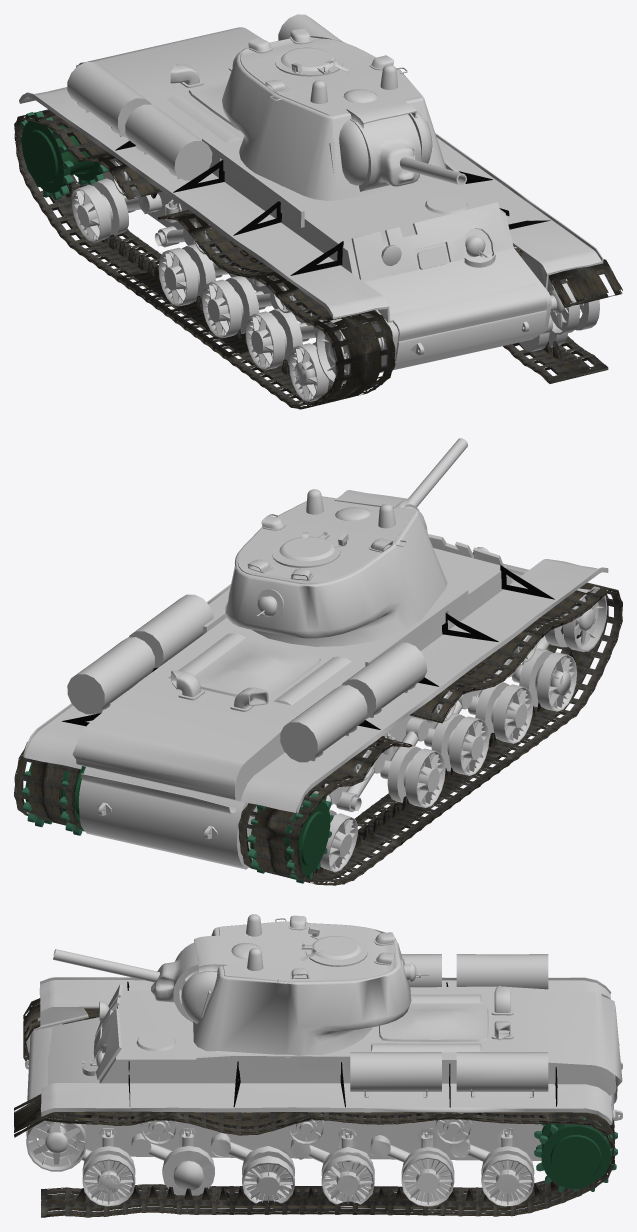
Rendered from KV-1_EndGame.fbx.
The picture shows the model from 3 angles, top to bottom: view 1: azimuth 30°, elevation 25°; view 2: azimuth 150°, elevation 25°; view 3: azimuth 270°, elevation 25°; orthographic projection. The views are drawn at different scales.
Parts seen in each view (by area): view 1: Osnovanie_low.004, KV_1_BashNya_low.002, track_unText.002, Bokovie_krilia_low.002, Koleso9_KV1_low.004, bochka_low.002, track_unText.001, Koleso_zadnee_zveda_low.002, KV_1_front_low.002, ugolnik_low.002, KV_1_BashNya_low_dop2.002, koleso_top_low.001 (+6 smaller); view 2: Osnovanie_low.004, KV_1_BashNya_low.002, track_unText.002, Bokovie_krilia_low.002, Koleso9_KV1_low.004, bochka_low.002, track_unText.001, Koleso_zadnee_zveda_low.002, koleso_top_low.002, KV_1_BashNya_low_dop2.002, ugolnik_low.002, vozduhska_low.002 (+3 smaller); view 3: Osnovanie_low.004, KV_1_BashNya_low.002, track_unText.001, Koleso9_KV1_low.004, Bokovie_krilia_low.002, bochka_low.002, Koleso_zadnee_zveda_low.001, koleso_top_low.001, kolesoC_low.002, KV_1_BashNya_low_dop2.002, KV_1_front_low.002, KV_1_stvol_low.002 (+5 smaller).
Part boxes in pixels (left/top/right/bottom): Osnovanie_low.004: left=76, top=27, right=551, bottom=372; KV_1_BashNya_low.002: left=222, top=36, right=446, bottom=200; track_unText.002: left=14, top=109, right=395, bottom=409; Bokovie_krilia_low.002: left=19, top=87, right=603, bottom=322; Koleso9_KV1_low.004: left=71, top=178, right=567, bottom=401; bochka_low.002: left=67, top=14, right=343, bottom=180; track_unText.001: left=503, top=245, right=622, bottom=383; Koleso_zadnee_zveda_low.002: left=20, top=111, right=108, bottom=200; KV_1_front_low.002: left=355, top=114, right=421, bottom=191; ugolnik_low.002: left=115, top=140, right=550, bottom=275; KV_1_BashNya_low_dop2.002: left=248, top=29, right=432, bottom=173; koleso_top_low.001: left=547, top=278, right=599, bottom=334; Osnovanie_low.004: left=72, top=534, right=538, bottom=869; KV_1_BashNya_low.002: left=225, top=490, right=447, bottom=646; track_unText.002: left=238, top=582, right=622, bottom=885; Bokovie_krilia_low.002: left=23, top=559, right=608, bottom=813; Koleso9_KV1_low.004: left=301, top=625, right=577, bottom=872; bochka_low.002: left=67, top=594, right=427, bottom=762; track_unText.001: left=14, top=742, right=83, bottom=829; Koleso_zadnee_zveda_low.002: left=247, top=793, right=333, bottom=883; koleso_top_low.002: left=543, top=586, right=607, bottom=651; KV_1_BashNya_low_dop2.002: left=247, top=489, right=427, bottom=580; ugolnik_low.002: left=62, top=565, right=554, bottom=729; vozduhska_low.002: left=171, top=670, right=268, bottom=711; Osnovanie_low.004: left=27, top=984, right=622, bottom=1160; KV_1_BashNya_low.002: left=181, top=921, right=411, bottom=1057; track_unText.001: left=14, top=1094, right=614, bottom=1217; Koleso9_KV1_low.004: left=63, top=1128, right=534, bottom=1207; Bokovie_krilia_low.002: left=39, top=977, right=612, bottom=1125; bochka_low.002: left=350, top=954, right=548, bottom=1097; Koleso_zadnee_zveda_low.001: left=534, top=1117, right=617, bottom=1192; koleso_top_low.001: left=26, top=1114, right=86, bottom=1171; kolesoC_low.002: left=140, top=1113, right=472, bottom=1144; KV_1_BashNya_low_dop2.002: left=201, top=914, right=394, bottom=1017; KV_1_front_low.002: left=151, top=943, right=198, bottom=1022; KV_1_stvol_low.002: left=53, top=949, right=159, bottom=982.
Bounding box in the file's own units: 327 × 274 × 670.
